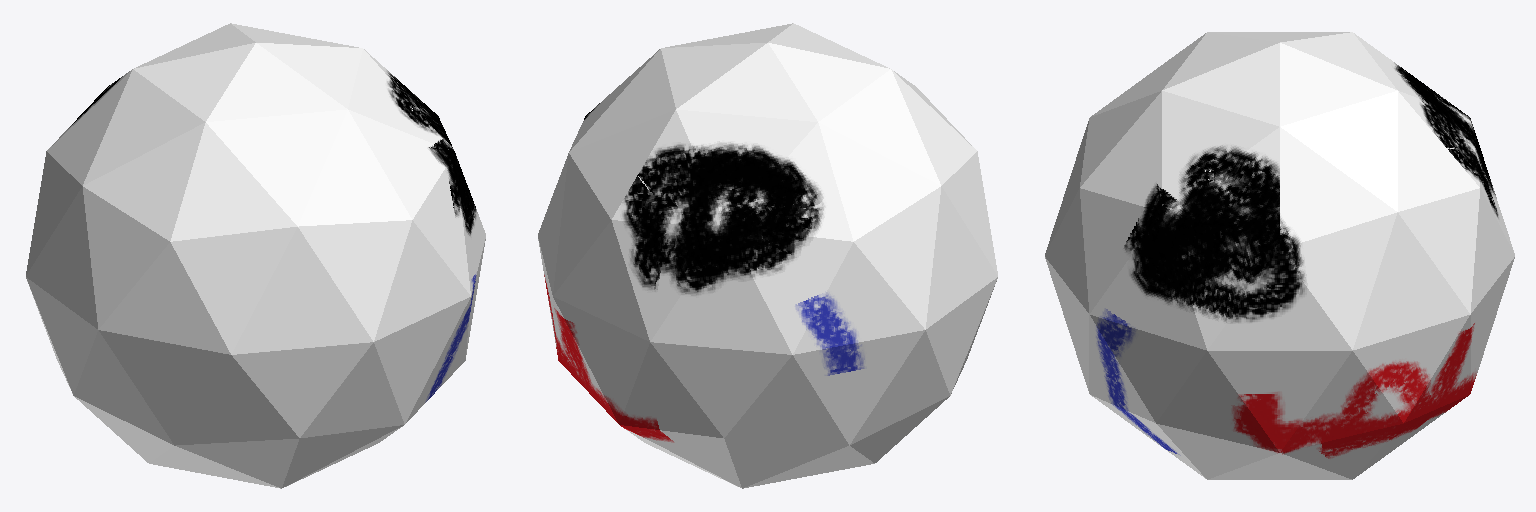
3 renders of one model, left to right at view 1: azimuth 30°, elevation 25°; view 2: azimuth 150°, elevation 25°; view 3: azimuth 270°, elevation 25°, orthographic.
Parts seen in each view (by area): view 1: ICO球.001; view 2: ICO球.001; view 3: ICO球.001.
Boxes of the visible parts, box(x1,y1,x2,y2) form: ICO球.001: box(26, 23, 485, 488); ICO球.001: box(538, 23, 997, 488); ICO球.001: box(1045, 32, 1514, 479).
Bounding box in the file's own units: 1.8 × 1.89 × 1.89.
1 materials, 1 textured.